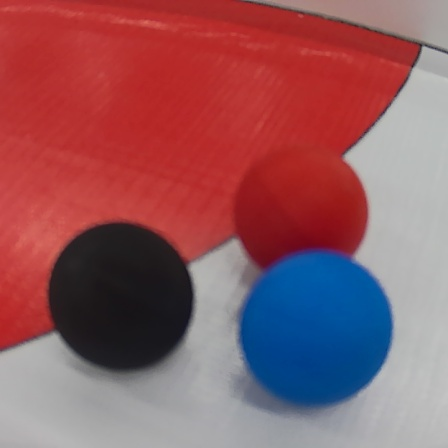black: (45, 220, 205, 378)
blue: (236, 248, 395, 408)
red: (233, 134, 376, 268)
red_base: (0, 0, 424, 350)
